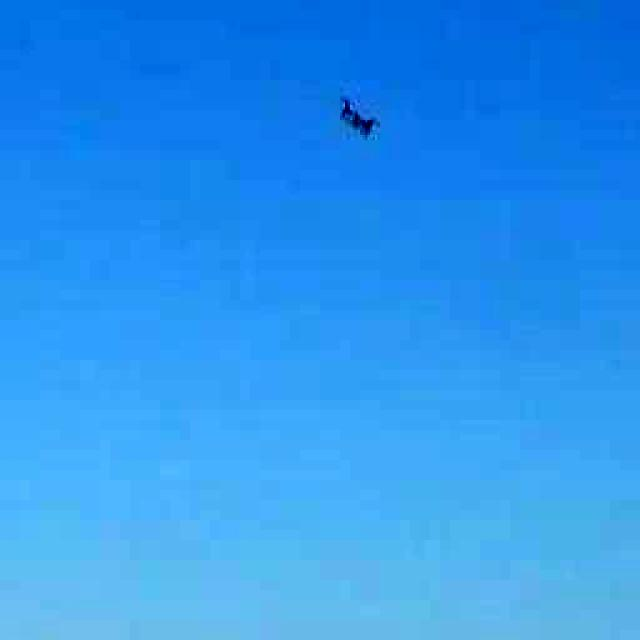bird: (324, 86, 401, 164)
